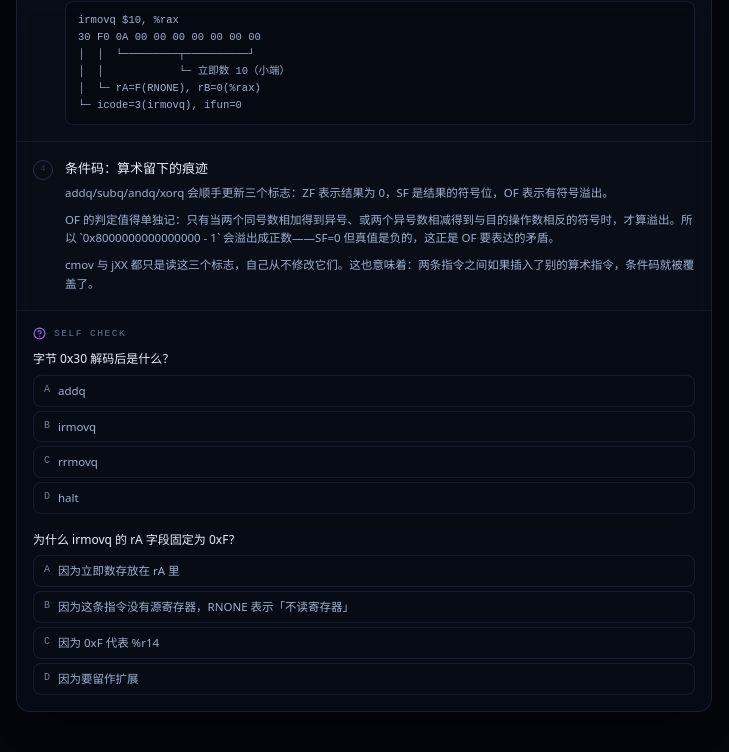
Test: Learning Center › 答错会提示，答对会标绿
(page scrolled)
// 第一题正确答案是「irmovq」
Click the button "B irmovq".
click(77, 426)  # box [33,410,695,442]
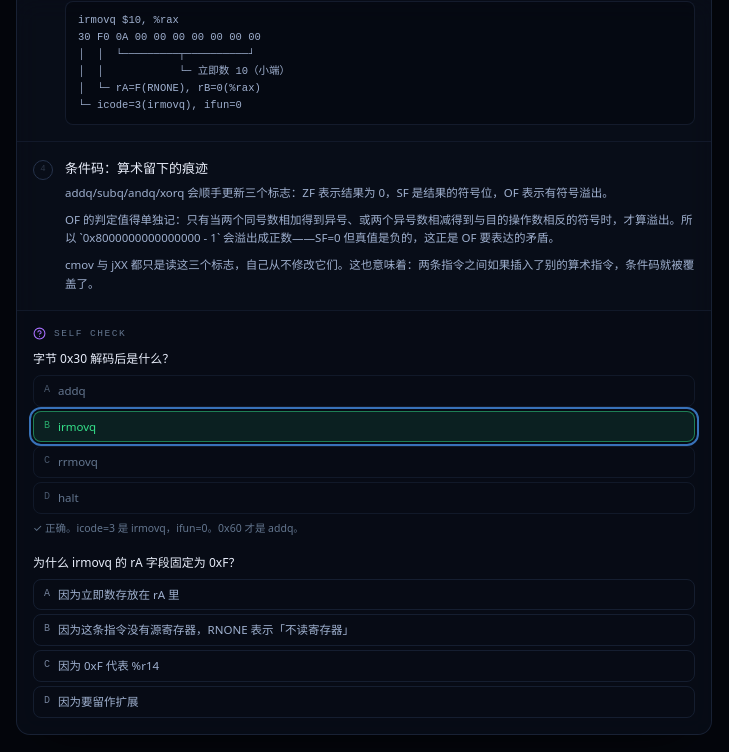
Now the text "✓ 正确。icode=3 是 irmovq，ifun=0。0x60 才是 addq。" is shown, box [33,521,304,535]
Click the button "A addq".
click(47, 389)  # box [33,375,695,406]
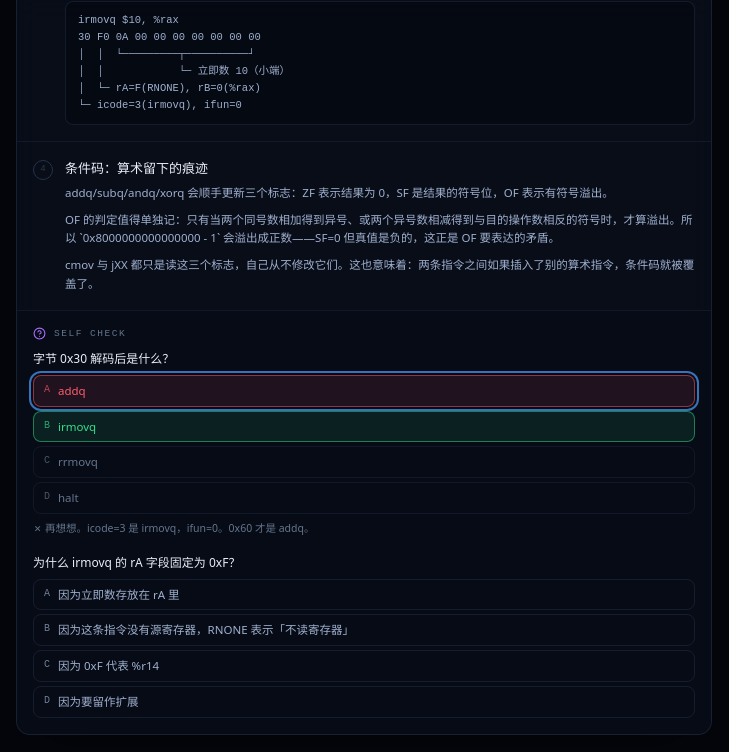
Now the text "✗ 再想想。icode=3 是 irmovq，ifun=0。0x60 才是 addq。" is shown, box [33,521,314,535]
